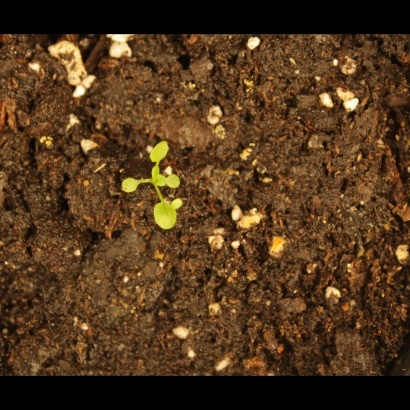leaf: (153, 199, 180, 234), (146, 138, 174, 164), (116, 173, 139, 201), (147, 165, 170, 189), (166, 171, 189, 194), (172, 196, 195, 219)
